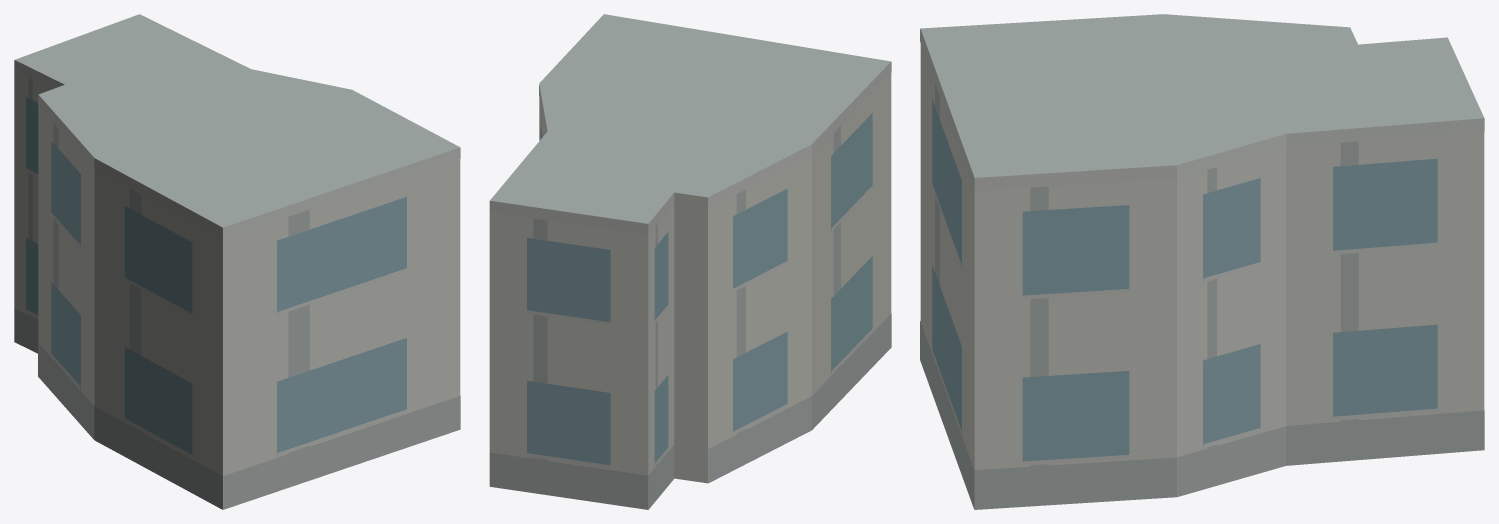
The model's file is residential-e8d32778-9b1e-4140-9362-131bfdbf588f.glb.
The picture shows the model from 3 angles, left to right: view 1: azimuth 30°, elevation 25°; view 2: azimuth 150°, elevation 25°; view 3: azimuth 270°, elevation 25°; orthographic projection. The views are drawn at different scales.
Parts seen in each view (by area): view 1: residential-e8d32778-9b1e-4140-9362-131bfdbf588f.tmp; view 2: residential-e8d32778-9b1e-4140-9362-131bfdbf588f.tmp; view 3: residential-e8d32778-9b1e-4140-9362-131bfdbf588f.tmp.
Part boxes in pixels (x1,y1,x2,y2): residential-e8d32778-9b1e-4140-9362-131bfdbf588f.tmp: [14, 14, 460, 509]; residential-e8d32778-9b1e-4140-9362-131bfdbf588f.tmp: [489, 14, 891, 509]; residential-e8d32778-9b1e-4140-9362-131bfdbf588f.tmp: [920, 14, 1484, 509].
Size of the model in its own units: 6.47 by 6.1 by 9.41.
